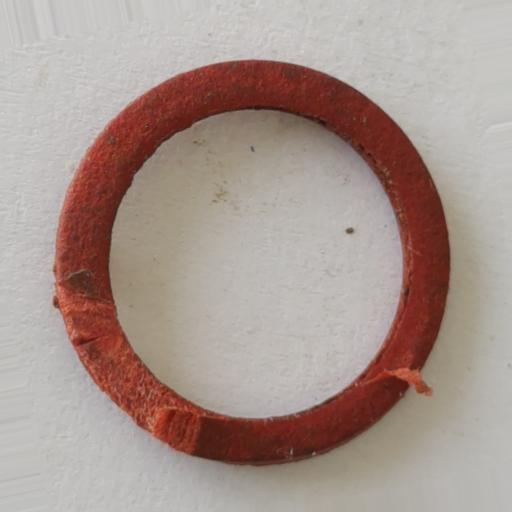defect: (54, 284, 205, 459), (355, 351, 434, 399)
